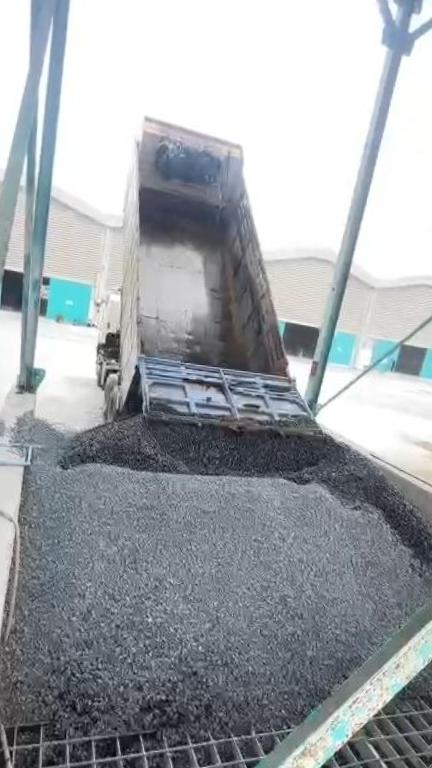gravel: (0, 380, 432, 734), (221, 250, 244, 368), (384, 658, 432, 712)
sand: (418, 442, 432, 491)
